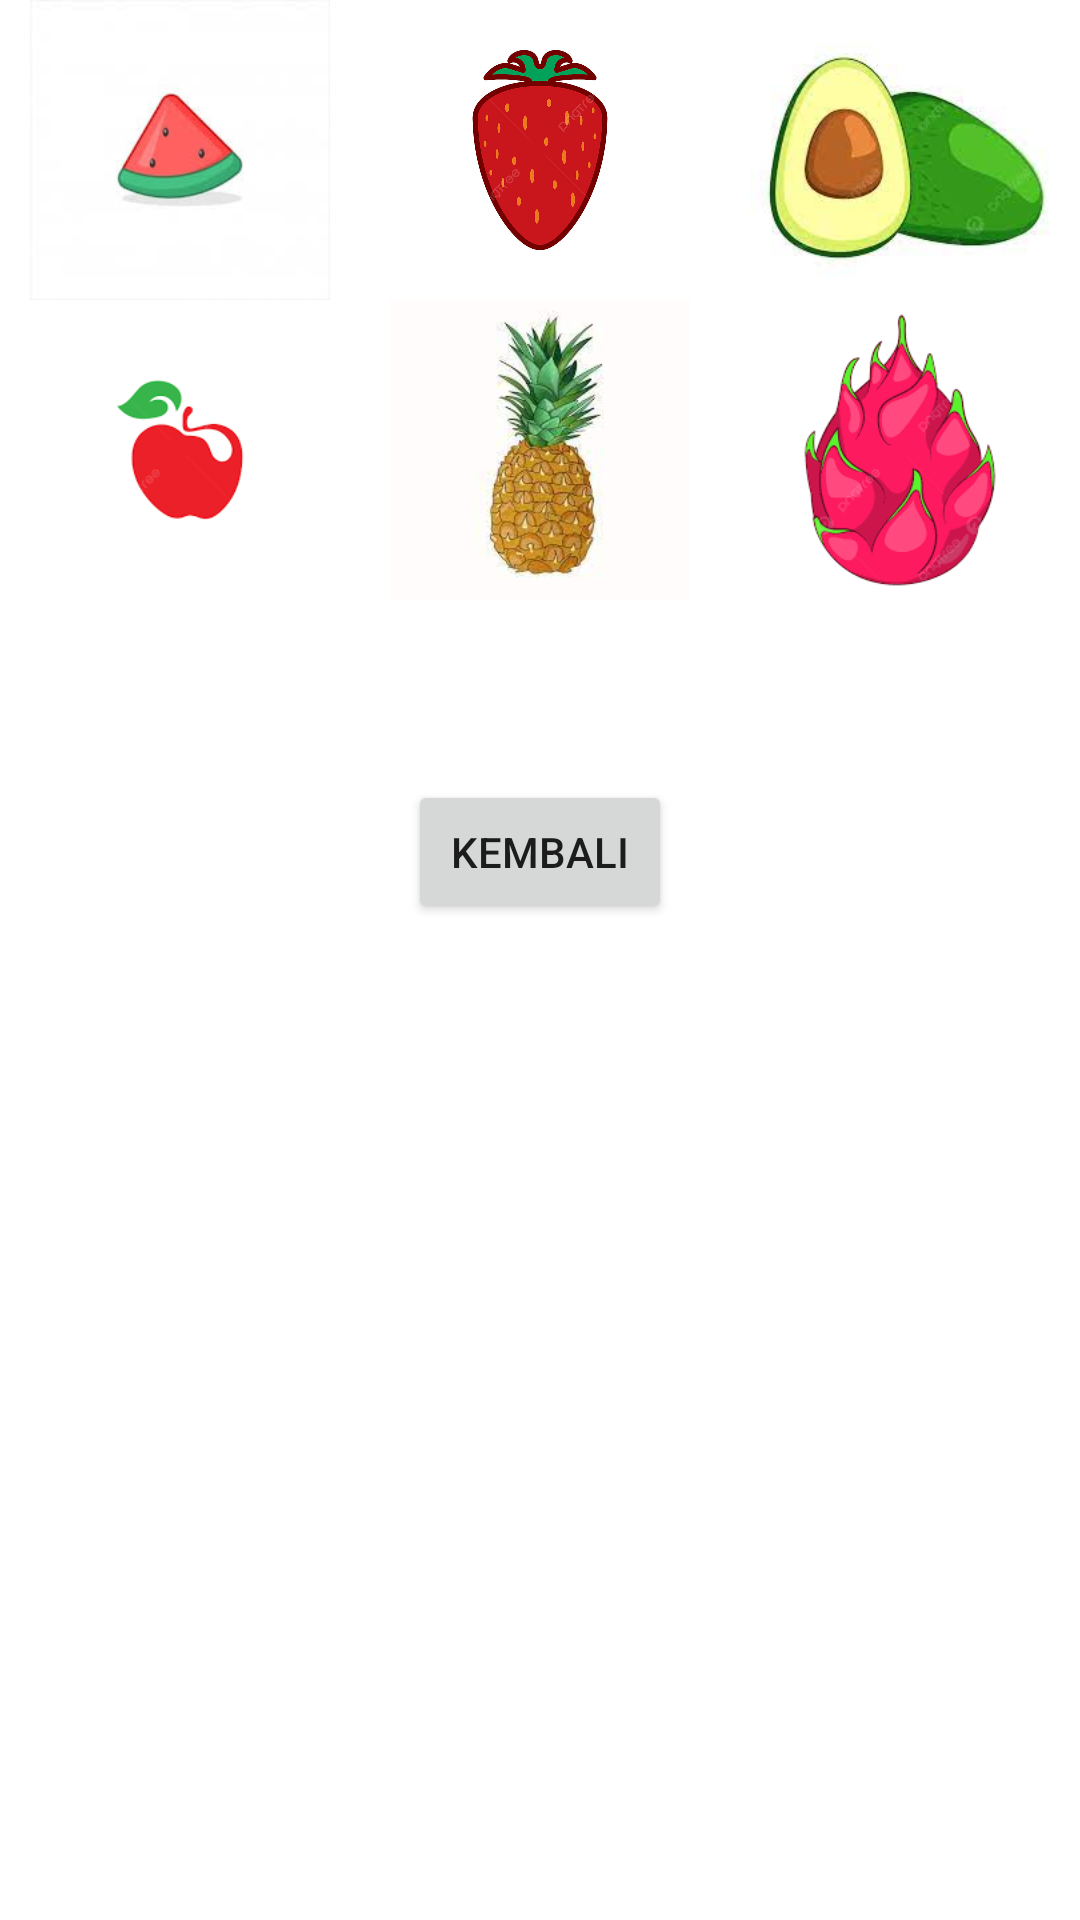

Screen size 1080 × 1920. Icon name, then its box in pixels as (x1,y1,x2,y2):
alpukat: (768,56,1045,259)
apel: (117,380,243,520)
buahnaga: (804,314,996,586)
nanas: (487,311,603,577)
semangka: (117,93,243,205)
stroberi: (472,50,608,250)
